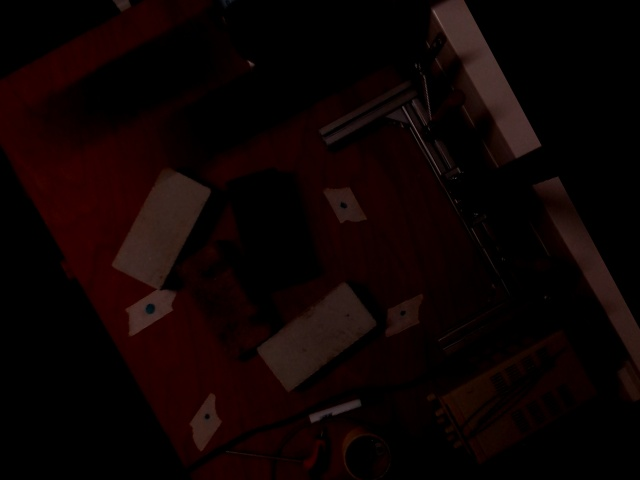brick: (257, 282, 378, 392), (113, 166, 210, 289), (175, 244, 275, 361), (225, 168, 302, 289)
